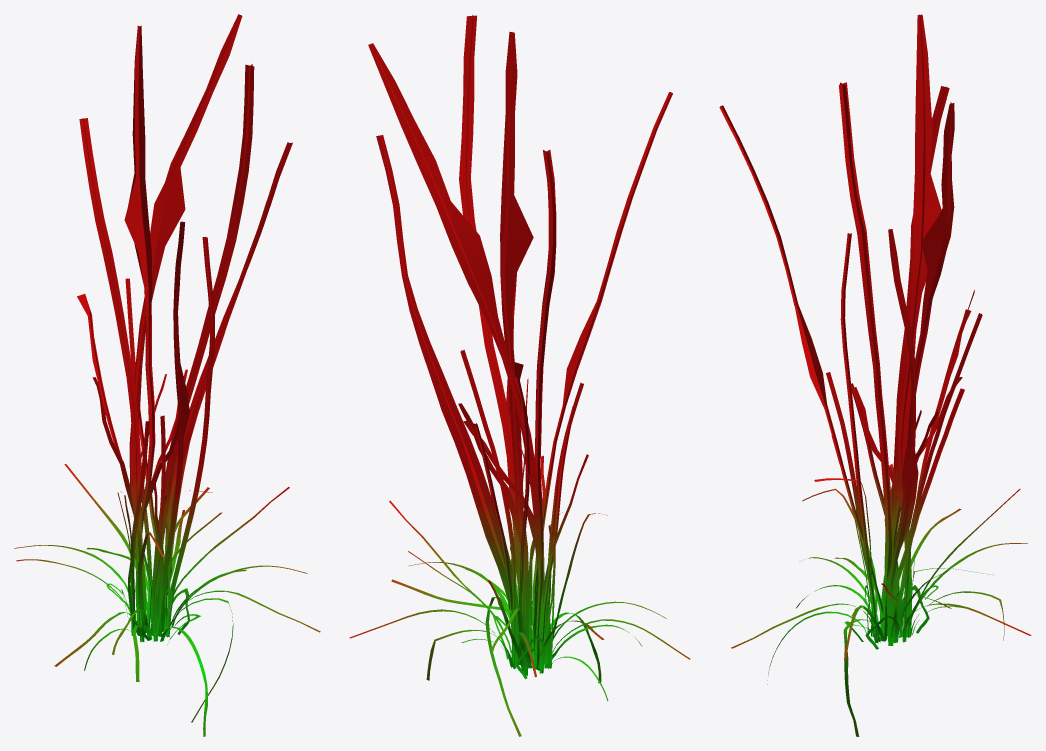
File: smdrailr_Var1_LOD0.fbx
3 renders of one model, left to right at view 1: azimuth 30°, elevation 25°; view 2: azimuth 150°, elevation 25°; view 3: azimuth 270°, elevation 25°, orthographic. The views are drawn at different scales.
Parts seen in each view (by area): view 1: _be39_Var1_LOD0; view 2: _be39_Var1_LOD0; view 3: _be39_Var1_LOD0.
Boxes of the visible parts, left/top/right/bottom form: _be39_Var1_LOD0: left=14, top=14, right=320, bottom=736; _be39_Var1_LOD0: left=349, top=14, right=690, bottom=736; _be39_Var1_LOD0: left=719, top=14, right=1031, bottom=736.
Bounding box in the file's own units: 29.83 × 73.24 × 29.18.
